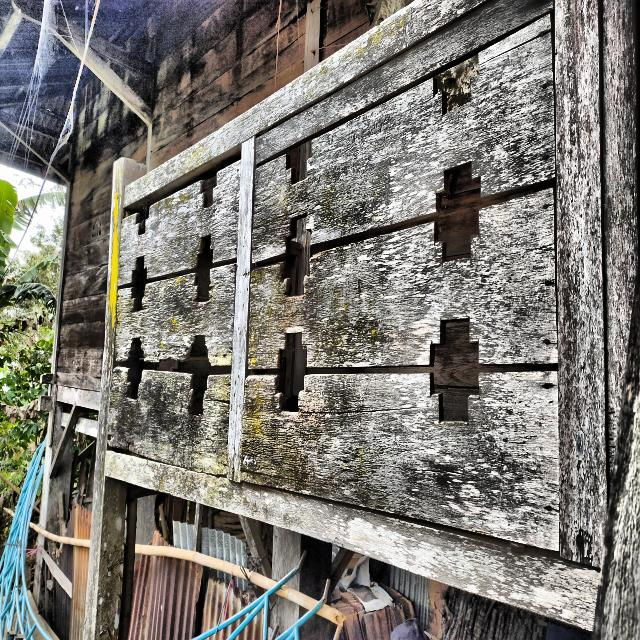ornamen: (240, 12, 561, 552), (107, 160, 240, 476)
wall: (55, 0, 416, 389)
